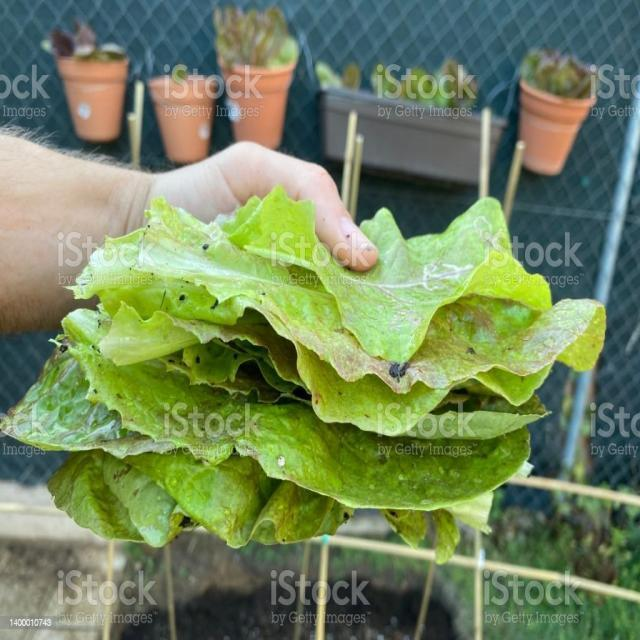Bacterial: (256, 264, 513, 475)
